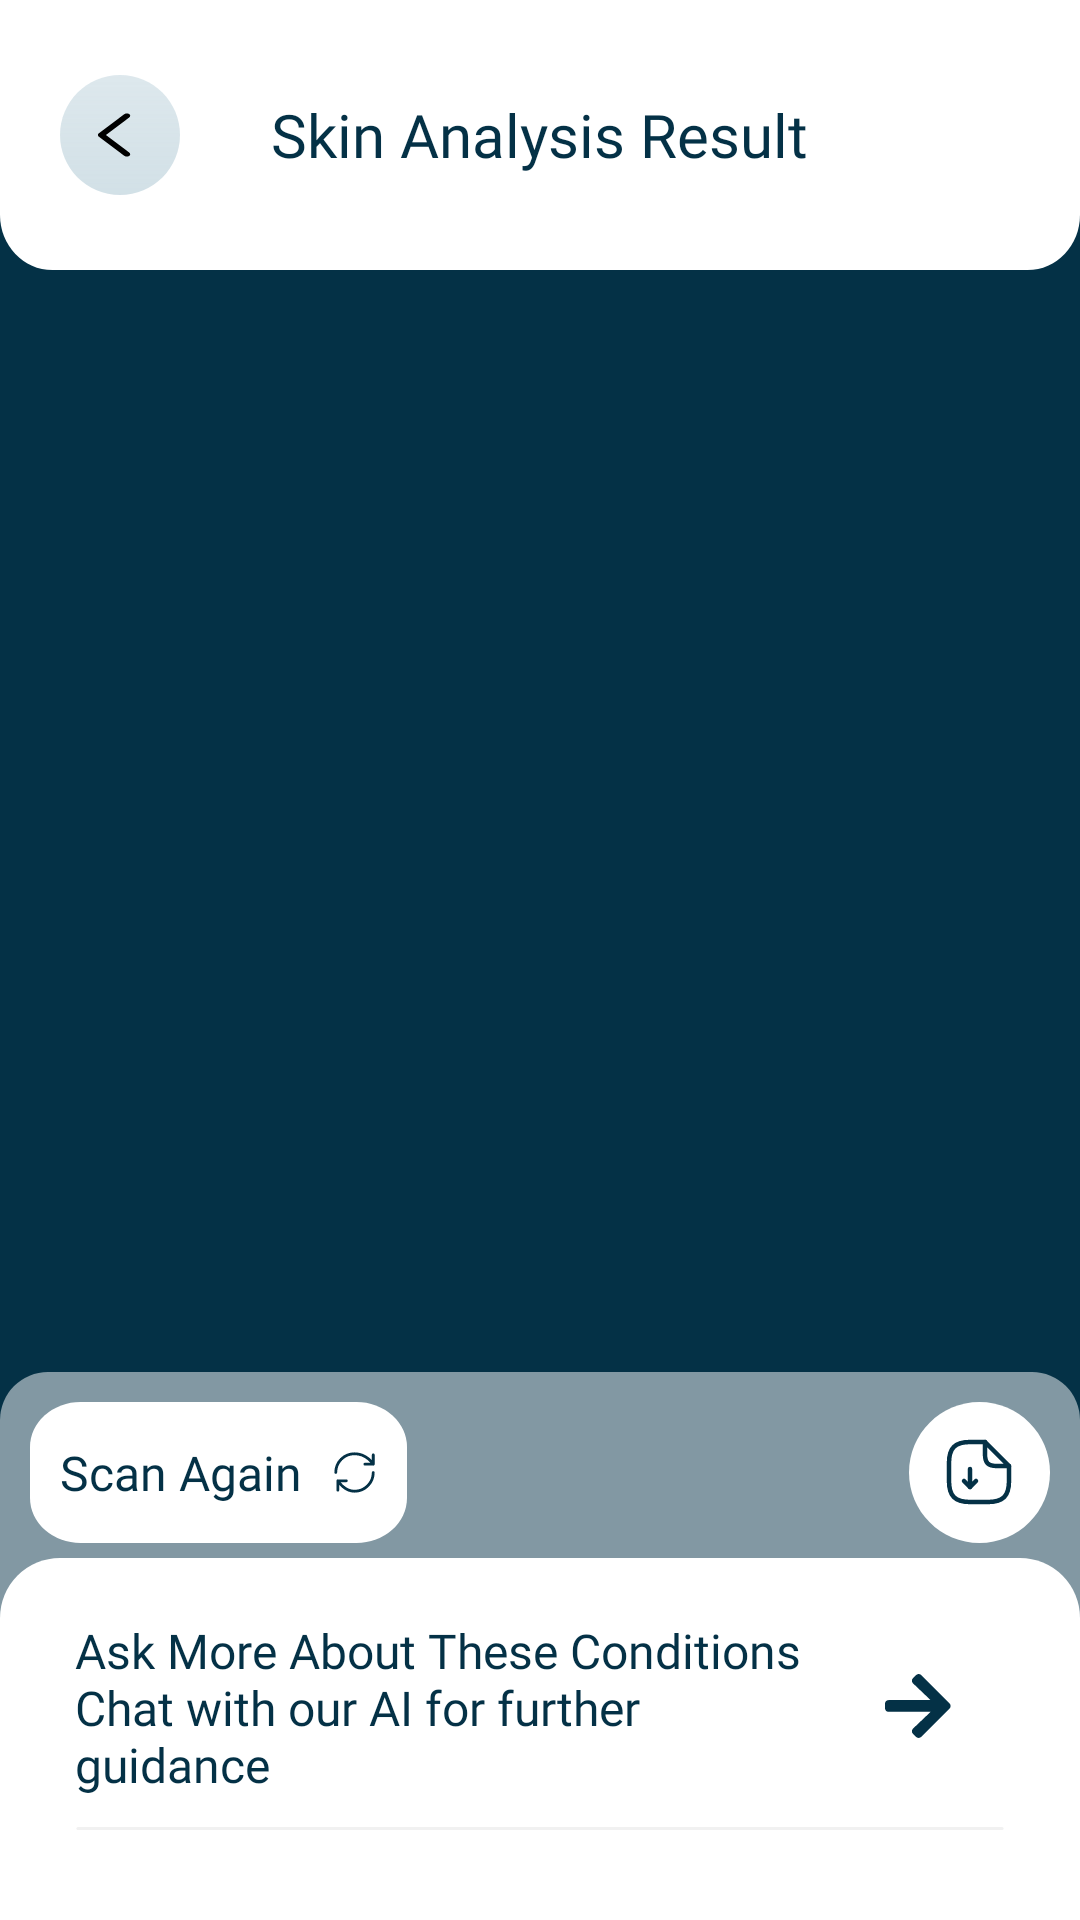

Icon click points for this 1080x1920 phone screenshot, format (x=x, y=y):
arrow right: (x=918, y=1706)
back arrow: (x=114, y=135)
doc download: (x=979, y=1472)
refresh: (x=354, y=1472)
